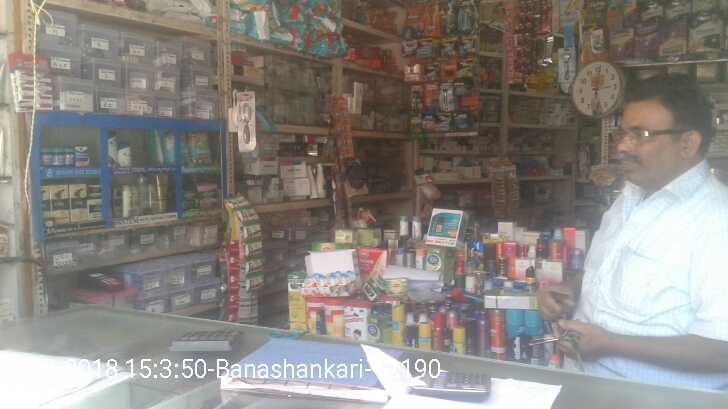beauty: (68, 183, 89, 223), (49, 186, 69, 226), (156, 173, 168, 211), (121, 184, 134, 218), (116, 140, 132, 165), (106, 131, 117, 166)
pharmacy: (151, 127, 189, 168), (185, 126, 213, 167), (194, 183, 219, 207), (174, 185, 195, 211), (40, 146, 66, 167), (71, 144, 88, 166)
